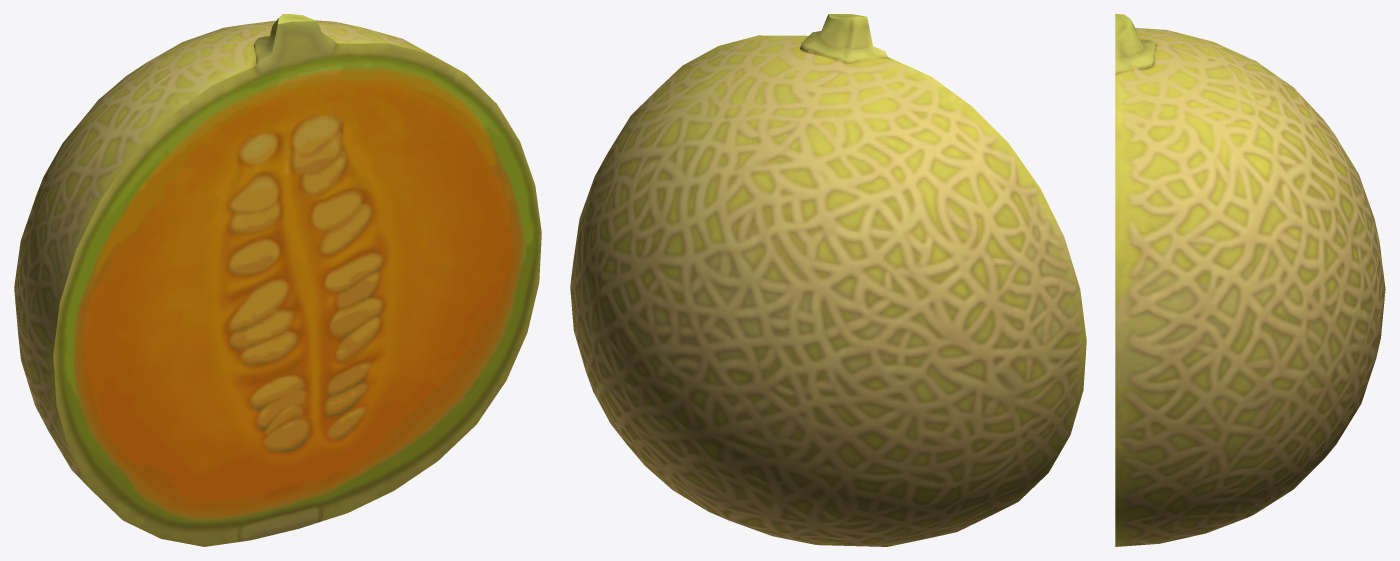
File: SM_CantaloupeCutB.fbx
The picture shows the model from 3 angles, left to right: view 1: azimuth 30°, elevation 25°; view 2: azimuth 150°, elevation 25°; view 3: azimuth 270°, elevation 25°; orthographic projection. The views are drawn at different scales.
Parts seen in each view (by area): view 1: SM_CantaloupeCutB; view 2: SM_CantaloupeCutB; view 3: SM_CantaloupeCutB.
Part boxes in pixels (left/top/right/bottom): SM_CantaloupeCutB: left=14, top=14, right=541, bottom=546; SM_CantaloupeCutB: left=570, top=14, right=1086, bottom=546; SM_CantaloupeCutB: left=1115, top=14, right=1385, bottom=546.
Size of the model in its own units: 26.71 by 26.73 by 13.3.
